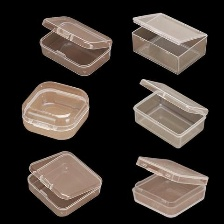plastic_box: (123, 6, 212, 80), (127, 74, 212, 151), (30, 9, 117, 81), (22, 146, 106, 220), (125, 151, 212, 221), (15, 76, 95, 145)
